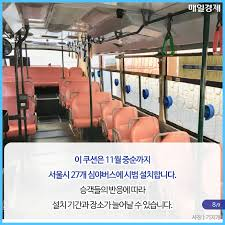seat: (71, 90, 102, 129)
